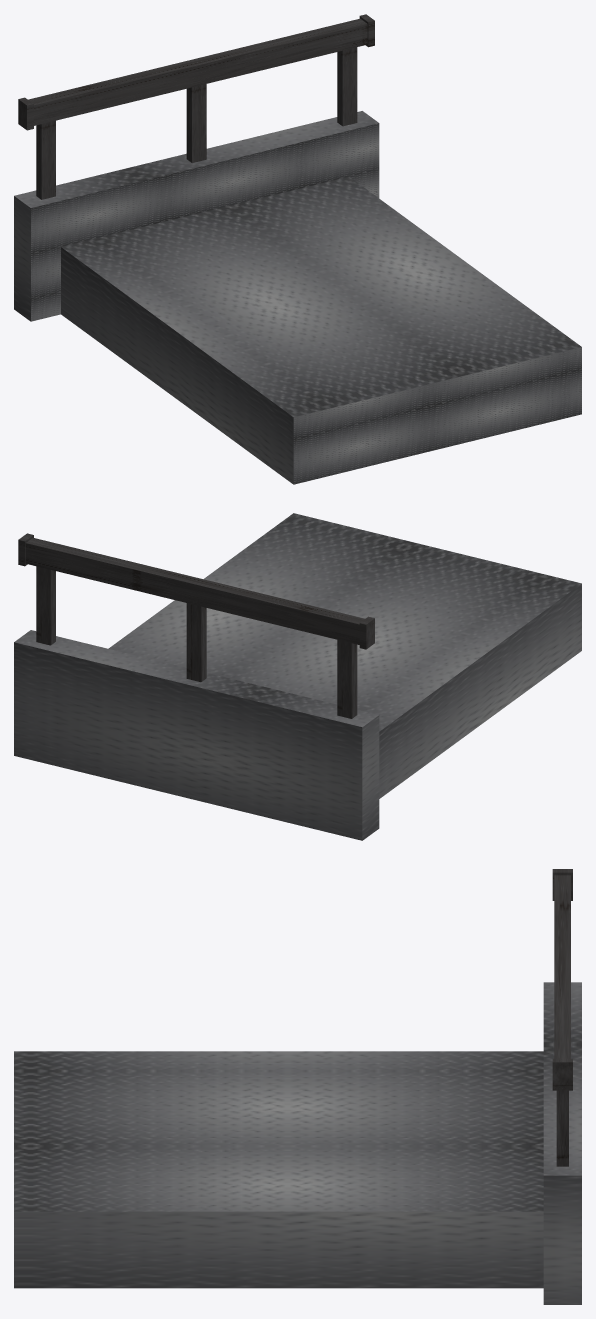
File: train-rails-end.fbx
The picture shows the model from 3 angles, top to bottom: view 1: azimuth 30°, elevation 25°; view 2: azimuth 150°, elevation 25°; view 3: azimuth 270°, elevation 25°; orthographic projection. The views are drawn at different scales.
Visible parts, largest first — view 1: Cube.061; view 2: Cube.061; view 3: Cube.061.
Boxes of the visible parts, x1,y1,x2,y2 form: Cube.061: (14, 14, 581, 484); Cube.061: (14, 513, 581, 840); Cube.061: (14, 869, 581, 1304).
Bounding box in the file's own units: 283 × 165 × 351.
